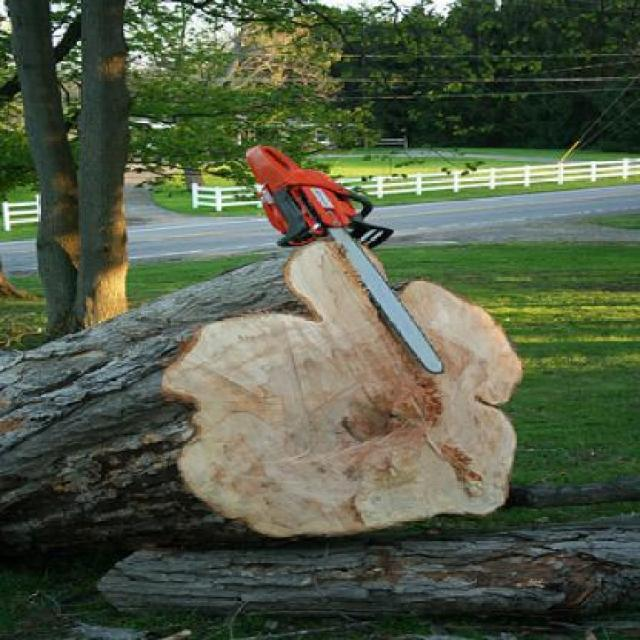Chainsaw: (240, 141, 442, 374)
